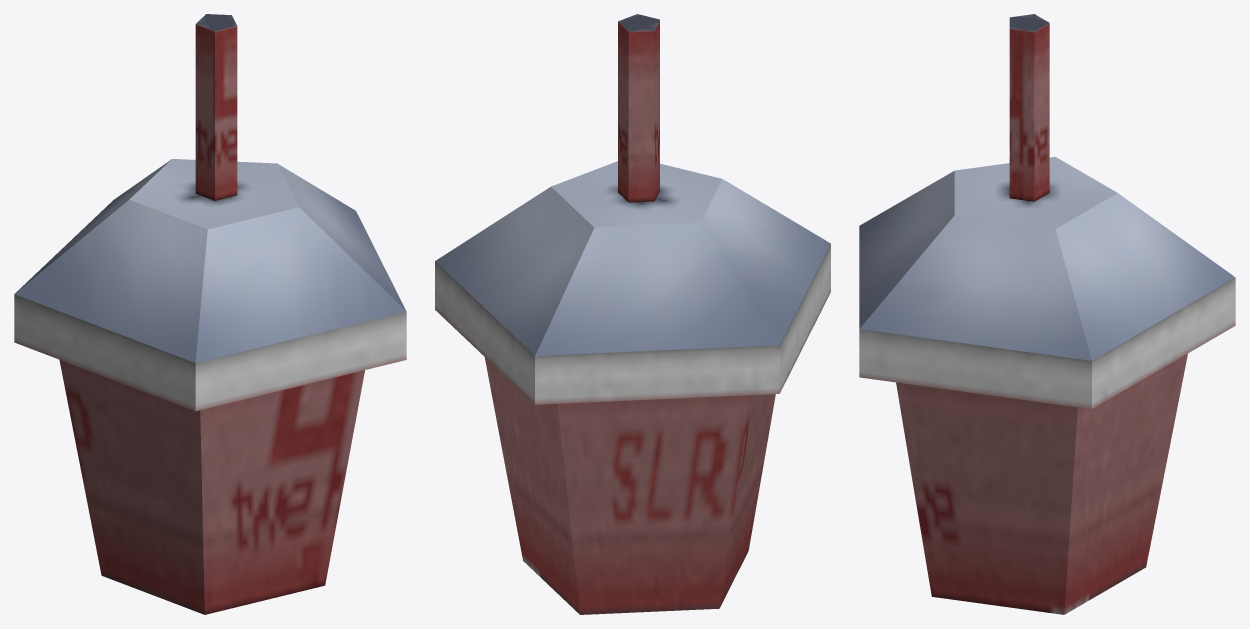
Rendered from LP_SLURPEECUP.fbx.
The picture shows the model from 3 angles, left to right: view 1: azimuth 30°, elevation 25°; view 2: azimuth 150°, elevation 25°; view 3: azimuth 270°, elevation 25°; orthographic projection.
Visible parts, largest first — view 1: Cylinder; view 2: Cylinder; view 3: Cylinder.
Boxes of the visible parts, x1,y1,x2,y2 form: Cylinder: (14,14,406,614); Cylinder: (435,14,830,614); Cylinder: (859,14,1235,614).
Size of the model in its own units: 238 by 362 by 227.
1 material, 1 textured.
